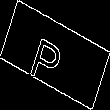P_NE: (35, 25, 75, 85)
